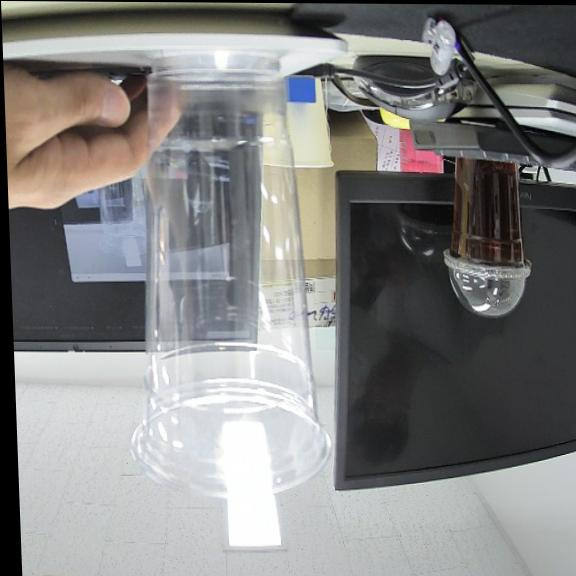Plastik: (131, 55, 329, 498)
